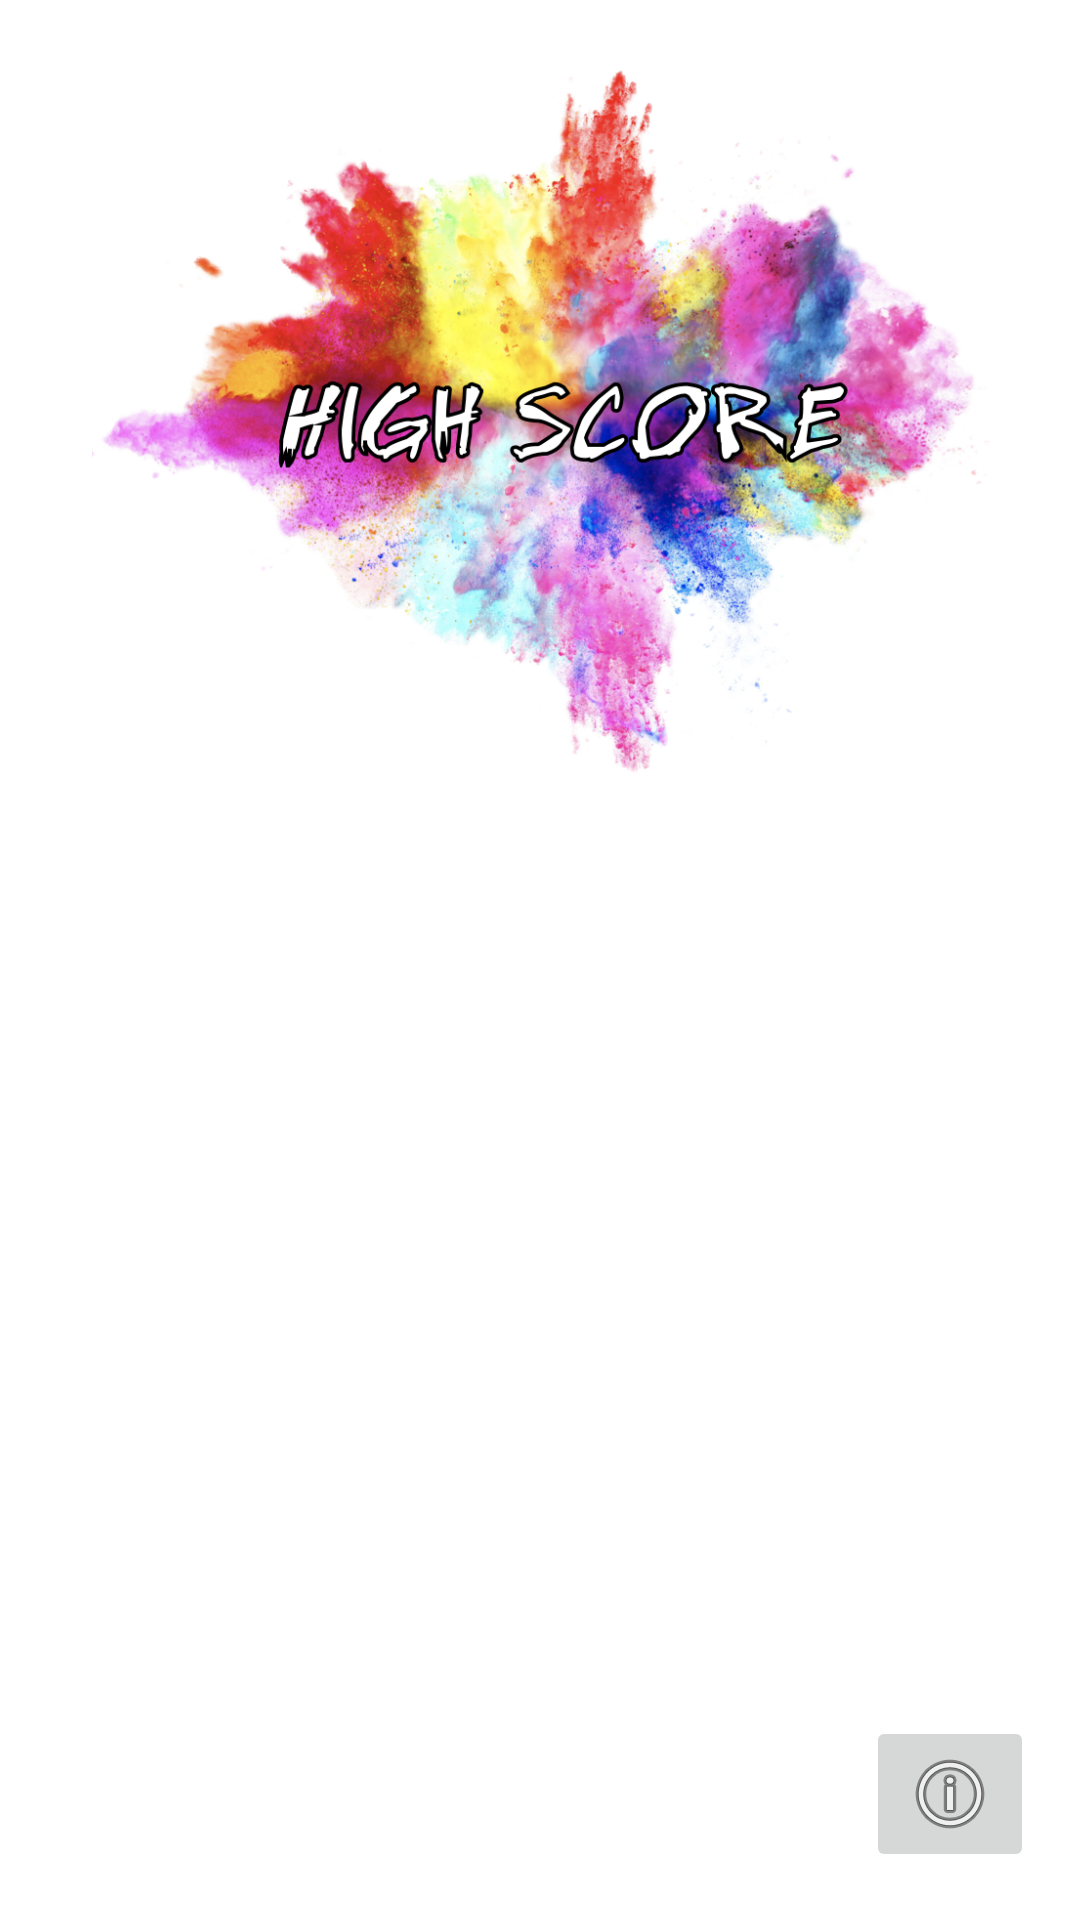

Locate icon controls on the screen. Image size 1080×1920, boxes as bbox=[x1, y1, x2, y2].
info details: bbox=[878, 1734, 1022, 1854]
